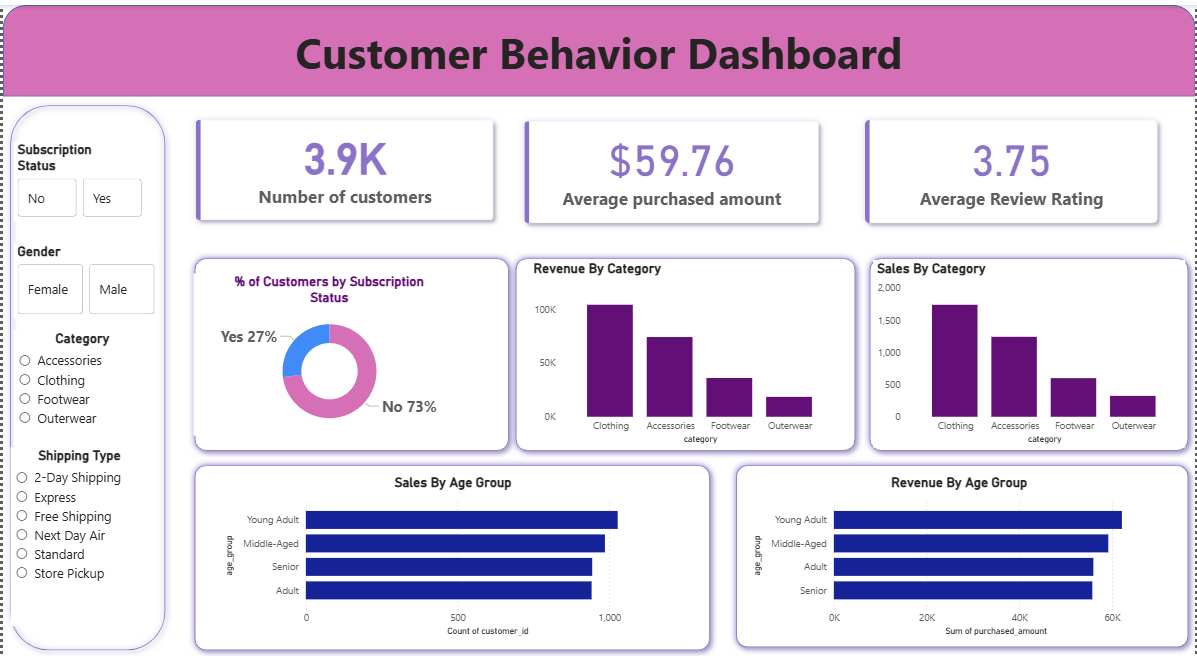

The page's visual inventory and layout, read from the dashboard file:
{"tool":"powerbi","page":{"name":"Page 1","canvas":[1500,820],"ordinal":0},"visuals":[{"type":"cardVisual","fields":{"Data":["public customer.Number of  customers"]},"box":[213.2,115.1,432,184.9],"z":0},{"type":"cardVisual","fields":{"Data":["public customer.Average purchased amount"]},"box":[626.3,117,428.2,186.8],"z":1000},{"type":"cardVisual","fields":{"Data":["public customer.Average Review Rating"]},"box":[1054.6,115.1,426.4,188.7],"z":2000},{"type":"shape","box":[0,0,1499.8,115.1],"z":3000},{"type":"textbox","box":[0,0,1499.8,115.1],"z":4000},{"type":"shape","box":[232,309.4,413.2,260.3],"z":5000},{"type":"donutChart","title":"% of Customers by Subscription Status","fields":{"Category":["public customer.subscription_status"],"Y":["CountNonNull(public customer.customer_id)"]},"box":[239.6,337.7,341.5,203.7],"z":6000},{"type":"shape","box":[635.8,309.4,445.2,260.3],"z":7000},{"type":"shape","box":[1081,309.4,418.8,260.3],"z":8000},{"type":"clusteredColumnChart","title":"Revenue By Category","fields":{"Y":["Sum(public customer.purchased_amount)"],"Category":["public customer.category"]},"box":[662.2,320.7,392.4,235.8],"z":9000},{"type":"clusteredColumnChart","title":"Sales By Category","fields":{"Category":["public customer.category"],"Y":["CountNonNull(public customer.customer_id)"]},"box":[1094.2,320.7,392.4,235.8],"z":10000},{"type":"shape","box":[0,117,213.2,703.7],"z":11000},{"type":"advancedSlicerVisual","title":"Subscription Status","fields":{"Values":["public customer.subscription_status"]},"box":[13.2,171.7,166,100],"z":12000},{"type":"advancedSlicerVisual","title":"Gender","fields":{"Values":["public customer.gender"]},"box":[13.2,300,183,94.3],"z":13000},{"type":"listSlicer","title":"Category","fields":{"Values":["public customer.category"]},"box":[13.2,409.4,173.6,224.5],"z":14000},{"type":"listSlicer","title":"Shipping Type","fields":{"Values":["public customer.shipping_type"]},"box":[9.4,556.5,173.6,224.5],"z":15000},{"type":"shape","box":[913.1,569.7,586.7,247.1],"z":17000},{"type":"clusteredBarChart","title":"Revenue By Age Group","fields":{"Y":["Sum(public customer.purchased_amount)"],"Category":["public customer.age_group"]},"box":[937.6,590.5,530.1,207.5],"z":17001},{"type":"shape","box":[232,569.7,666,250.9],"z":17002},{"type":"clusteredBarChart","title":"Sales By Age Group","fields":{"Y":["CountNonNull(public customer.customer_id)"],"Category":["public customer.age_group"]},"box":[273.5,590.5,584.8,207.5],"z":17003}]}

Visuals, with their boxes in screenshot pixels (x1, y1, x2, y2), scaled from the page's 1500x820 canvas onto the 1197x656 screenshot:
cardVisual - public customer.Number of  customers: BBox(170, 92, 515, 240)
cardVisual - public customer.Average purchased amount: BBox(500, 94, 841, 243)
cardVisual - public customer.Average Review Rating: BBox(842, 92, 1182, 243)
shape: BBox(0, 0, 1196, 92)
textbox: BBox(0, 0, 1196, 92)
shape: BBox(185, 248, 515, 456)
"% of Customers by Subscription Status" donutChart: BBox(191, 270, 464, 433)
shape: BBox(507, 248, 863, 456)
shape: BBox(863, 248, 1196, 456)
"Revenue By Category" clusteredColumnChart: BBox(528, 257, 842, 445)
"Sales By Category" clusteredColumnChart: BBox(873, 257, 1186, 445)
shape: BBox(0, 94, 170, 655)
"Subscription Status" advancedSlicerVisual: BBox(11, 137, 143, 217)
"Gender" advancedSlicerVisual: BBox(11, 240, 157, 315)
"Category" listSlicer: BBox(11, 328, 149, 507)
"Shipping Type" listSlicer: BBox(8, 445, 146, 625)
shape: BBox(729, 456, 1196, 653)
"Revenue By Age Group" clusteredBarChart: BBox(748, 472, 1171, 638)
shape: BBox(185, 456, 717, 655)
"Sales By Age Group" clusteredBarChart: BBox(218, 472, 685, 638)
